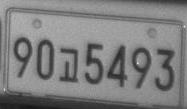0: (36, 38, 55, 80)
3: (154, 48, 175, 91)
4: (106, 44, 128, 87)
5: (84, 42, 104, 84)
9: (12, 35, 33, 77), (131, 46, 152, 88)
고: (58, 47, 79, 83)
